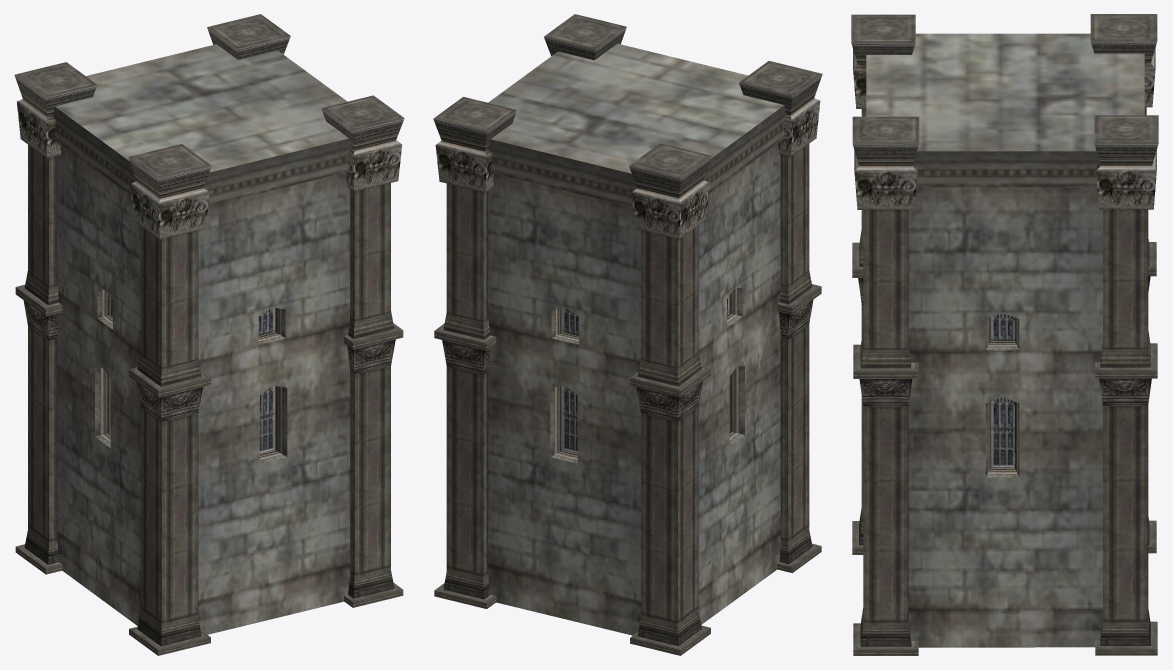
File: SM_EN_2005_fangzi04.FBX
The picture shows the model from 3 angles, left to right: view 1: azimuth 30°, elevation 25°; view 2: azimuth 150°, elevation 25°; view 3: azimuth 270°, elevation 25°; orthographic projection. The views are drawn at different scales.
Visible parts, largest first — view 1: SM_EN_2005_fangzi04; view 2: SM_EN_2005_fangzi04; view 3: SM_EN_2005_fangzi04.
Part boxes in pixels (x1,y1,x2,y2): SM_EN_2005_fangzi04: (14, 14, 404, 655); SM_EN_2005_fangzi04: (433, 14, 822, 655); SM_EN_2005_fangzi04: (851, 14, 1158, 655).
Bounding box in the file's own units: 368 × 676 × 368.
